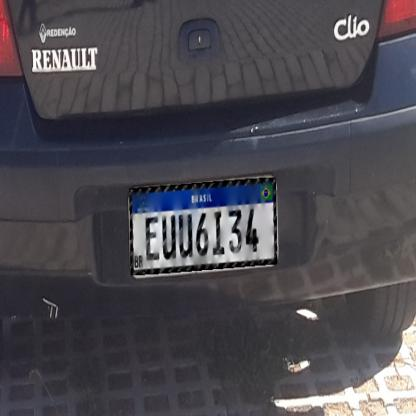PlacaM: (129, 178, 278, 275)
